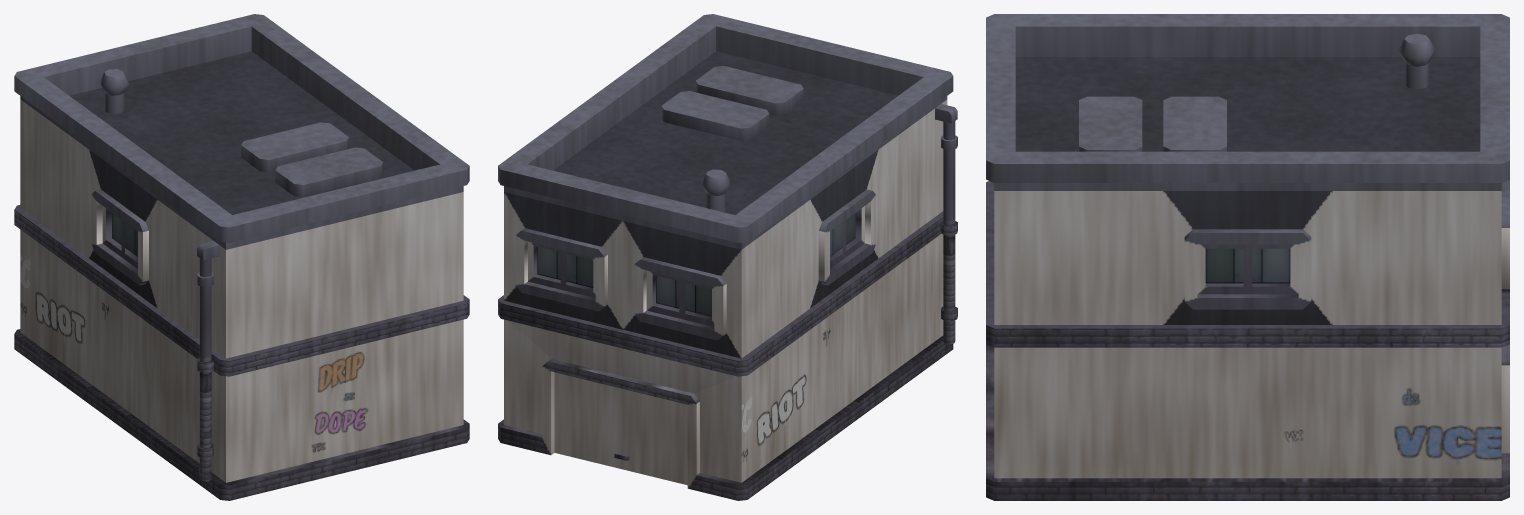
File: building-o-white-scuffed.glb
3 renders of one model, left to right at view 1: azimuth 30°, elevation 25°; view 2: azimuth 150°, elevation 25°; view 3: azimuth 270°, elevation 25°, orthographic. The views are drawn at different scales.
Visible parts, largest first — view 1: building-o; view 2: building-o; view 3: building-o.
Part boxes in pixels (x1,y1,x2,y2): building-o: (14,14,469,500); building-o: (498,14,957,500); building-o: (986,14,1509,500).
Size of the model in its own units: 0.8836 by 0.918 by 1.24.
Materials: 1 (1 with a texture image).
